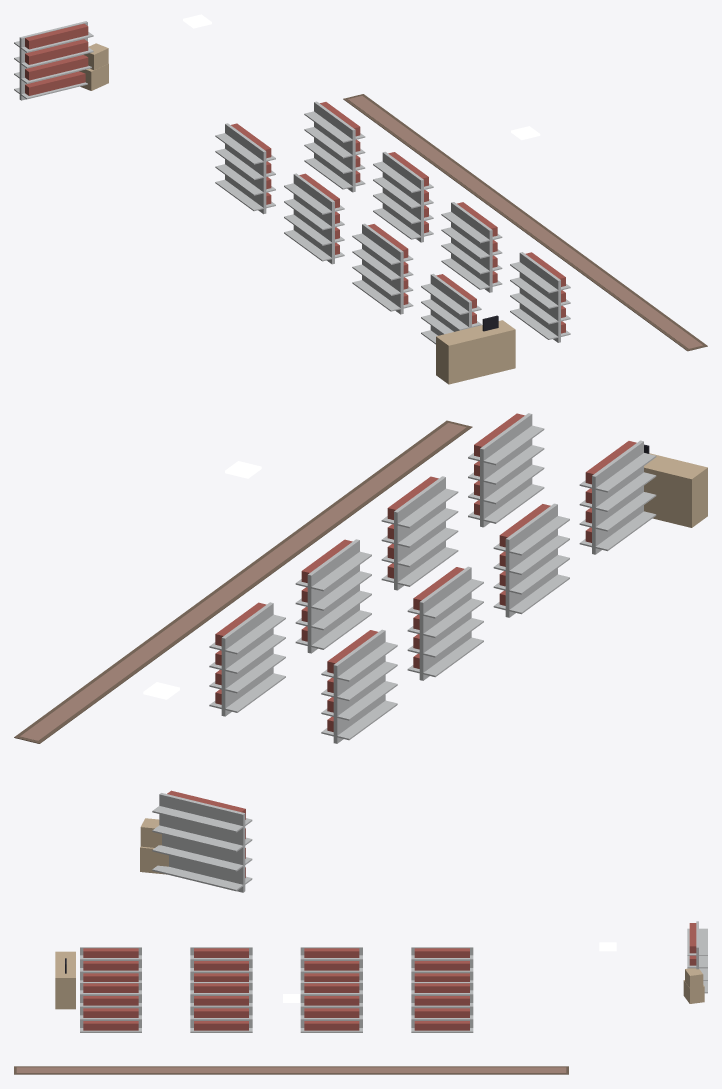
File: fine-s0.glb
3 views of the same model, one above another, from view 1: azimuth 30°, elevation 25°; view 2: azimuth 150°, elevation 25°; view 3: azimuth 270°, elevation 25° (orthographic). The views are drawn at different scales.
Parts seen in each view (by area): view 1: soft-s0, shelving.000, shop-counter.000, shelf.002, shelf.006, shelf.004, shelf.000, shelf.005, shelf.007, shelf.001, shelf.003, cardboard-box.000; view 2: soft-s0, shelving.000, shelf.004, shelf.001, shelf.007, shelf.000, shelf.005, shelf.002, shelf.003, shelf.006, shop-counter.000, cardboard-box.000; view 3: soft-s0, shelf.004, shelf.005, shelf.006, shelf.007, shelf.000, shelf.001, shelf.002, shelf.003, shop-counter.000, shelving.000, cardboard-box.000.
Part boxes in pixels (bbox=[...]): soft-s0: bbox=[343, 94, 707, 351]; shelving.000: bbox=[14, 21, 93, 100]; shop-counter.000: bbox=[436, 315, 515, 384]; shelf.002: bbox=[352, 223, 413, 314]; shelf.006: bbox=[441, 202, 502, 292]; shelf.004: bbox=[304, 101, 365, 192]; shelf.000: bbox=[215, 123, 275, 214]; shelf.005: bbox=[373, 151, 433, 242]; shelf.007: bbox=[510, 252, 570, 342]; shelf.001: bbox=[284, 173, 344, 264]; shelf.003: bbox=[421, 273, 481, 344]; cardboard-box.000: bbox=[79, 43, 108, 90]; soft-s0: bbox=[14, 420, 472, 743]; shelving.000: bbox=[152, 790, 252, 892]; shelf.004: bbox=[209, 602, 285, 716]; shelf.001: bbox=[407, 566, 483, 680]; shelf.007: bbox=[468, 413, 544, 527]; shelf.000: bbox=[321, 629, 397, 743]; shelf.005: bbox=[295, 539, 371, 653]; shelf.002: bbox=[493, 503, 569, 617]; shelf.003: bbox=[579, 440, 656, 554]; shelf.006: bbox=[381, 476, 458, 590]; shop-counter.000: bbox=[644, 444, 707, 527]; cardboard-box.000: bbox=[140, 818, 168, 874]; soft-s0: bbox=[14, 1066, 568, 1074]; shelf.004: bbox=[411, 982, 473, 1032]; shelf.005: bbox=[300, 982, 362, 1032]; shelf.006: bbox=[190, 982, 252, 1032]; shelf.007: bbox=[80, 982, 141, 1032]; shelf.000: bbox=[411, 947, 473, 981]; shelf.001: bbox=[300, 947, 362, 981]; shelf.002: bbox=[190, 947, 252, 981]; shelf.003: bbox=[80, 947, 141, 981]; shop-counter.000: bbox=[55, 951, 75, 1009]; shelving.000: bbox=[687, 921, 707, 993]; cardboard-box.000: bbox=[683, 968, 704, 1003].
Bounding box in the file's own units: 7.09 × 2.33 × 20.11.
